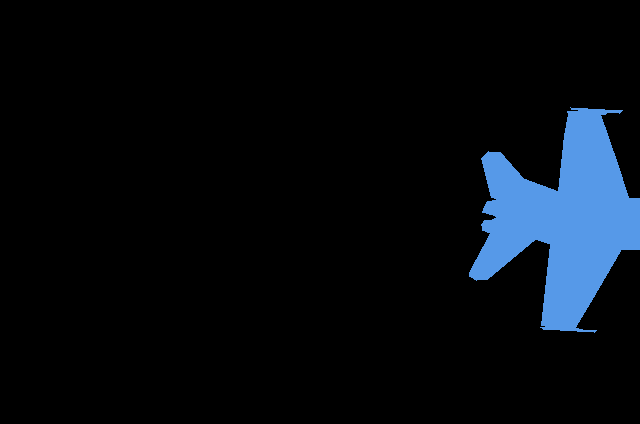Airplane: (469, 107, 640, 333)
